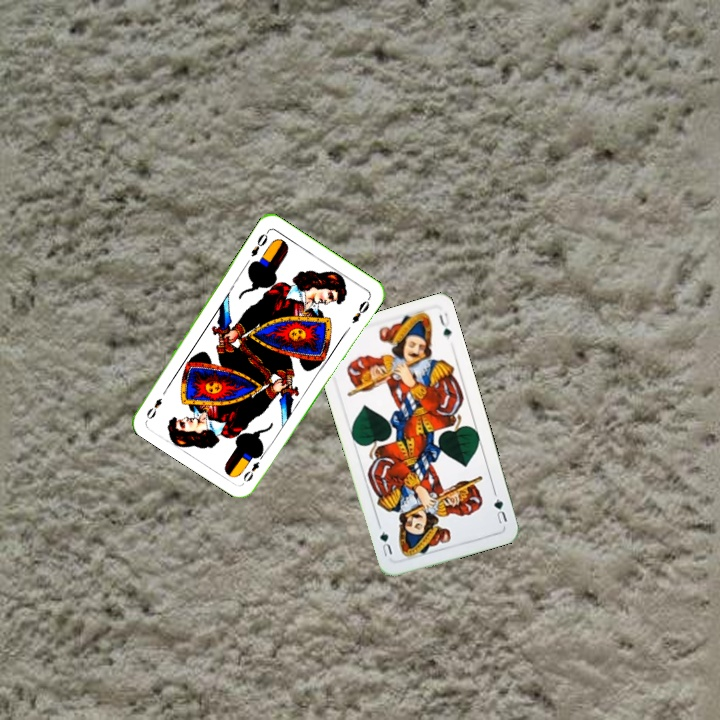EO: (247, 227, 271, 260), (239, 457, 262, 484)
GU: (490, 494, 510, 526)
